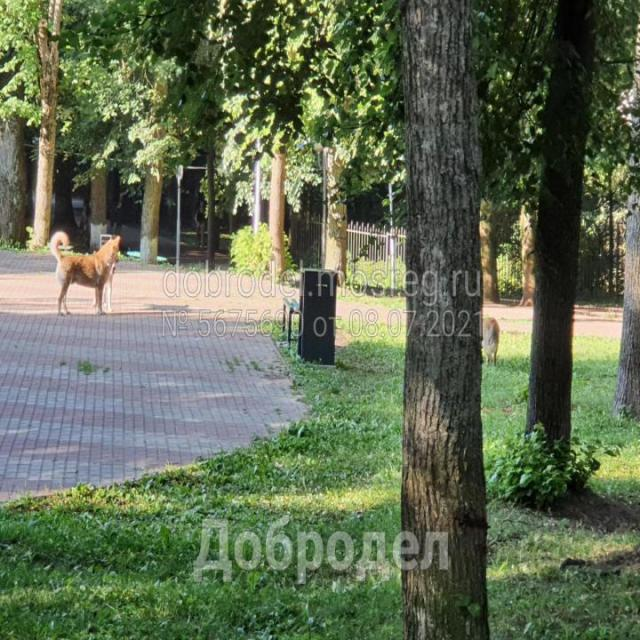dog: (47, 231, 121, 315)
